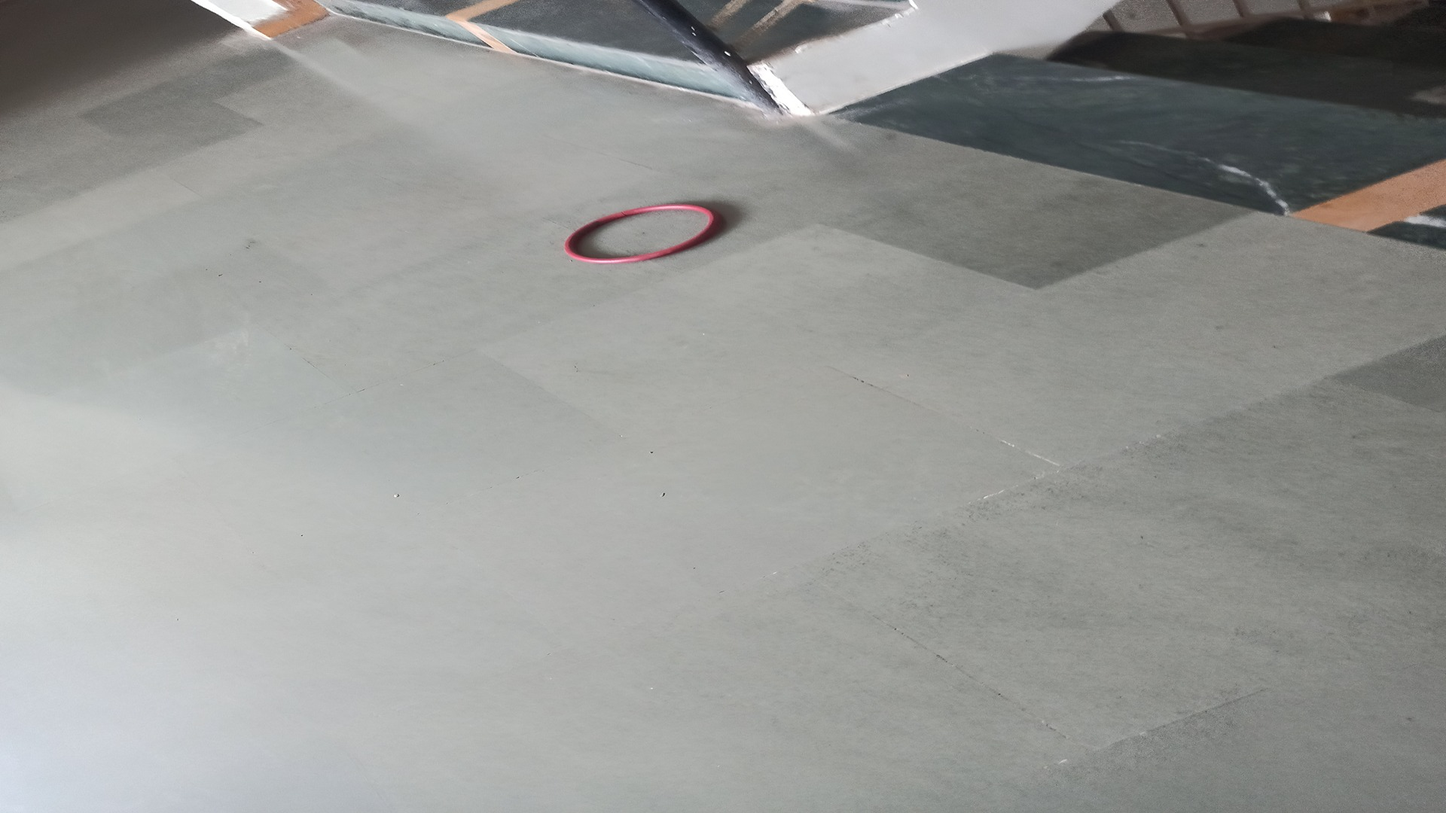Red ring: (561, 204, 718, 263)
